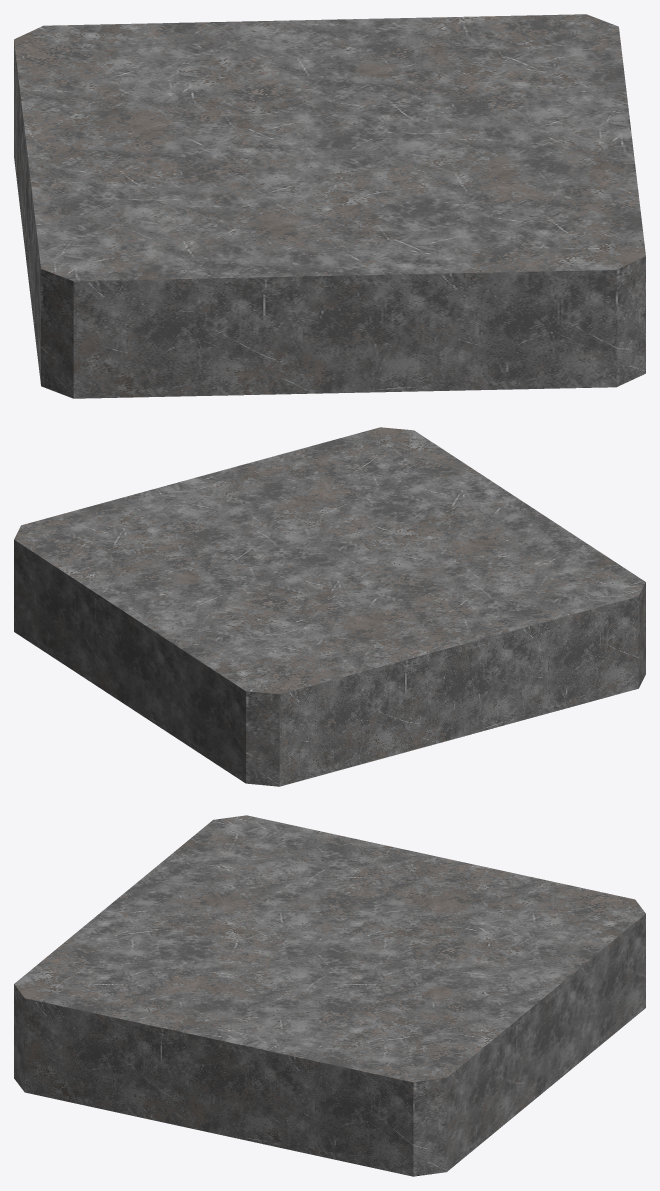
The model's file is newpinball_booster_base.fbx.
The picture shows the model from 3 angles, top to bottom: view 1: azimuth 30°, elevation 25°; view 2: azimuth 150°, elevation 25°; view 3: azimuth 270°, elevation 25°; orthographic projection. The views are drawn at different scales.
Visible parts, largest first — view 1: boosterbase1; view 2: boosterbase1; view 3: boosterbase1.
Boxes of the visible parts, x1,y1,x2,y2 form: boosterbase1: (14, 14, 645, 398); boosterbase1: (14, 427, 645, 786); boosterbase1: (14, 815, 645, 1176).
Size of the model in its own units: 18.16 by 2.99 by 18.16.
